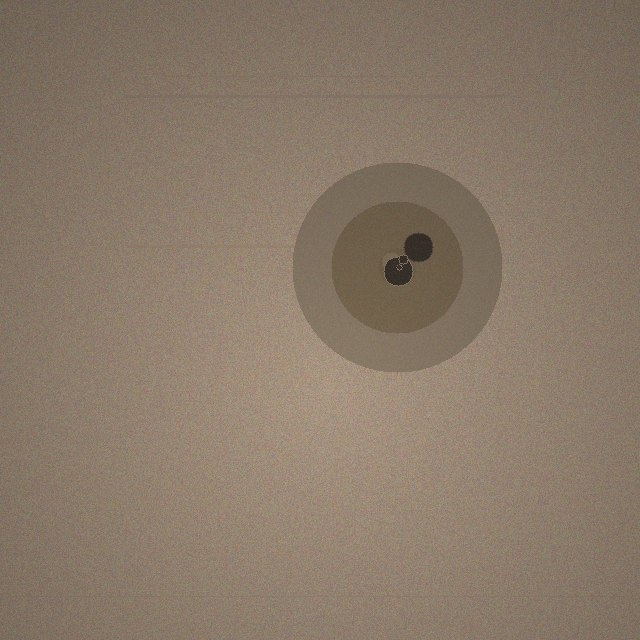shrinkage: (292, 162, 502, 372)
